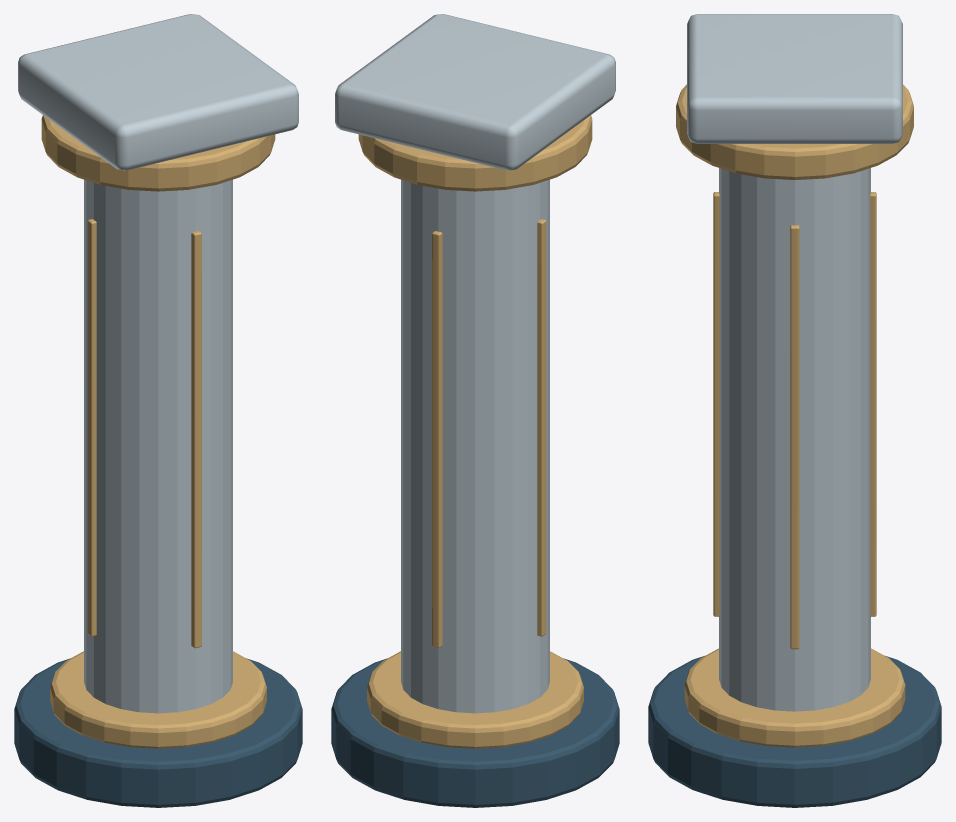
Rendered from guild_column.glb.
3 views of the same model, side by side, from view 1: azimuth 30°, elevation 25°; view 2: azimuth 150°, elevation 25°; view 3: azimuth 270°, elevation 25° (orthographic).
Parts seen in each view (by area): view 1: column_shaft, column_crown, column_plinth, column_base, column_capital, column_inlay_0, column_inlay_3; view 2: column_shaft, column_crown, column_plinth, column_base, column_capital, column_inlay_2, column_inlay_3; view 3: column_shaft, column_crown, column_plinth, column_base, column_capital, column_inlay_1, column_inlay_0, column_inlay_2.
Part boxes in pixels (x1,y1,x2,y2): column_shaft: (84, 179, 232, 713); column_crown: (18, 14, 298, 170); column_plinth: (14, 658, 302, 807); column_base: (50, 651, 266, 748); column_capital: (41, 115, 275, 191); column_inlay_0: (191, 231, 201, 648); column_inlay_3: (87, 219, 96, 636); column_shaft: (401, 179, 549, 713); column_crown: (335, 14, 615, 170); column_plinth: (331, 658, 619, 807); column_base: (367, 651, 583, 748); column_capital: (358, 115, 592, 191); column_inlay_2: (432, 231, 442, 648); column_inlay_3: (537, 219, 546, 636); column_shaft: (719, 168, 870, 711); column_crown: (687, 14, 902, 143); column_plinth: (648, 656, 941, 807); column_base: (684, 648, 905, 747); column_capital: (676, 84, 913, 179); column_inlay_1: (790, 225, 799, 649); column_inlay_0: (713, 192, 719, 616); column_inlay_2: (870, 192, 876, 616).
Size of the model in its own units: 1.7 by 4.43 by 1.7.
